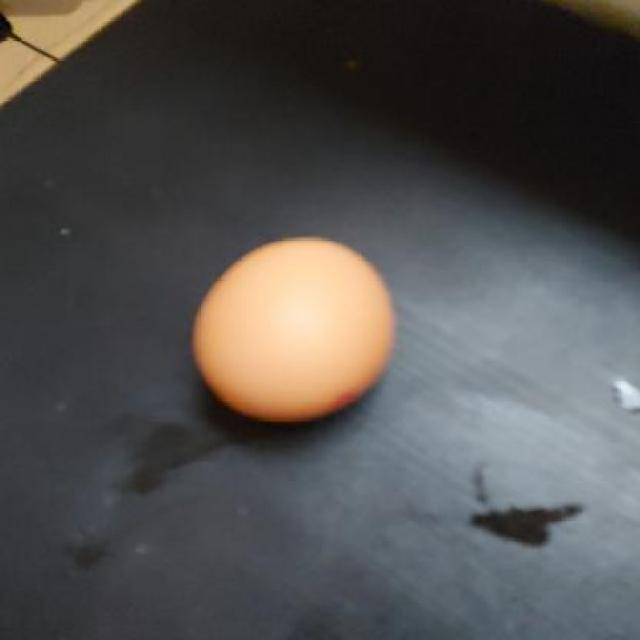biodegradable: (190, 234, 404, 421)
